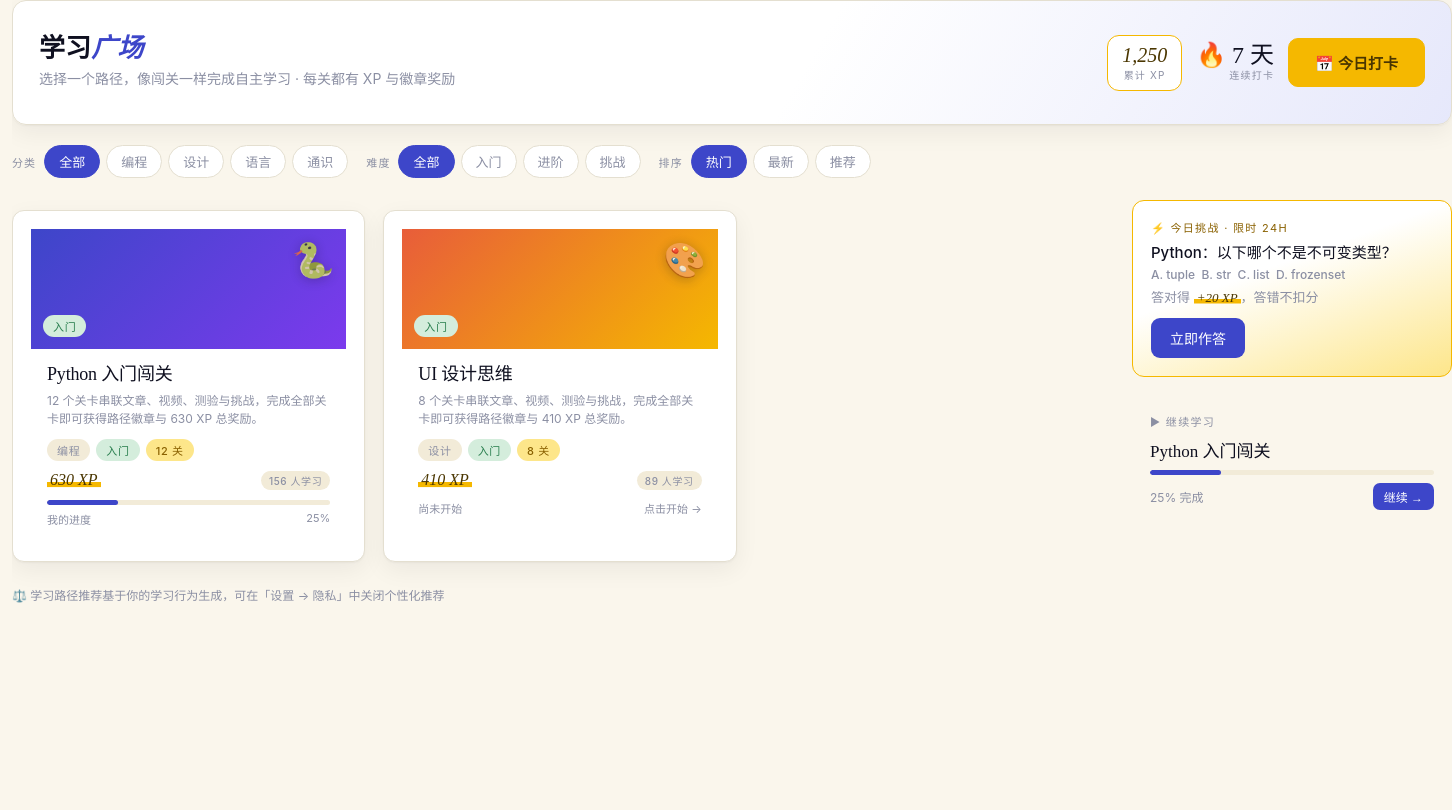
Test case: LearningPlaza › handles check-in button click
Click the button "📅 今日打卡" at (1357, 62), box [1288, 38, 1425, 87]
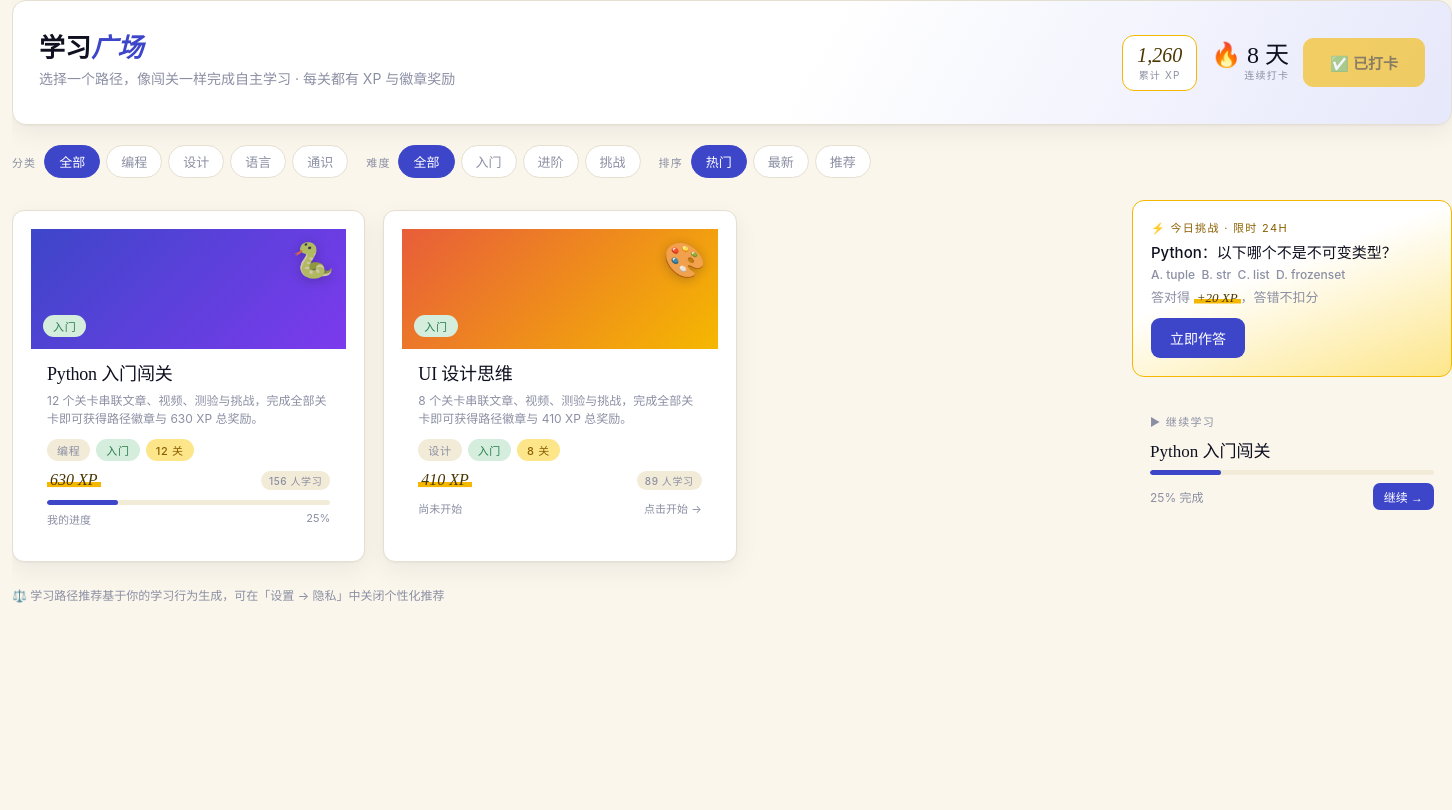
Now the button "✅ 已打卡" is shown, box [1303, 38, 1425, 87]
